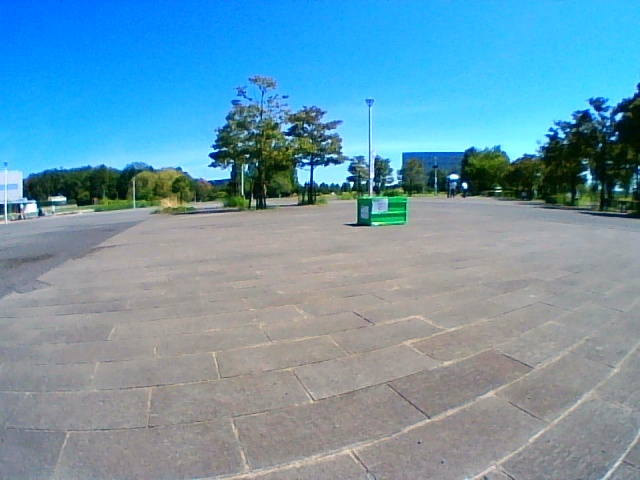green_box: (357, 196, 406, 226)
tag: (371, 201, 386, 212)
